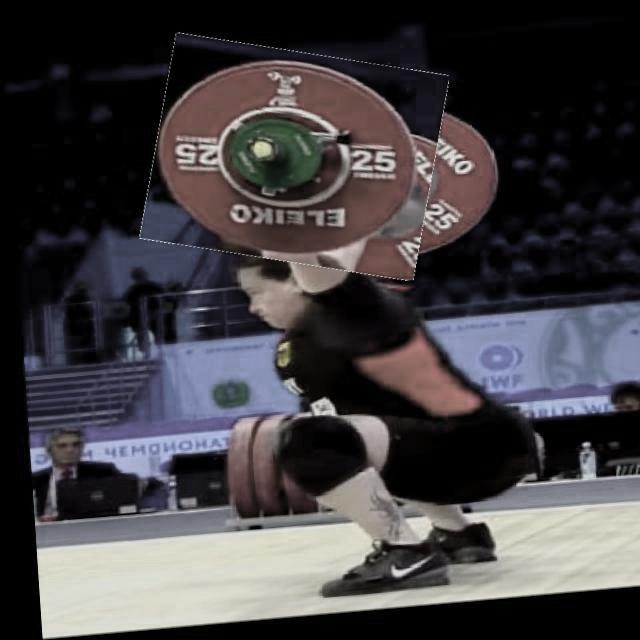barbell: (138, 34, 447, 292)
